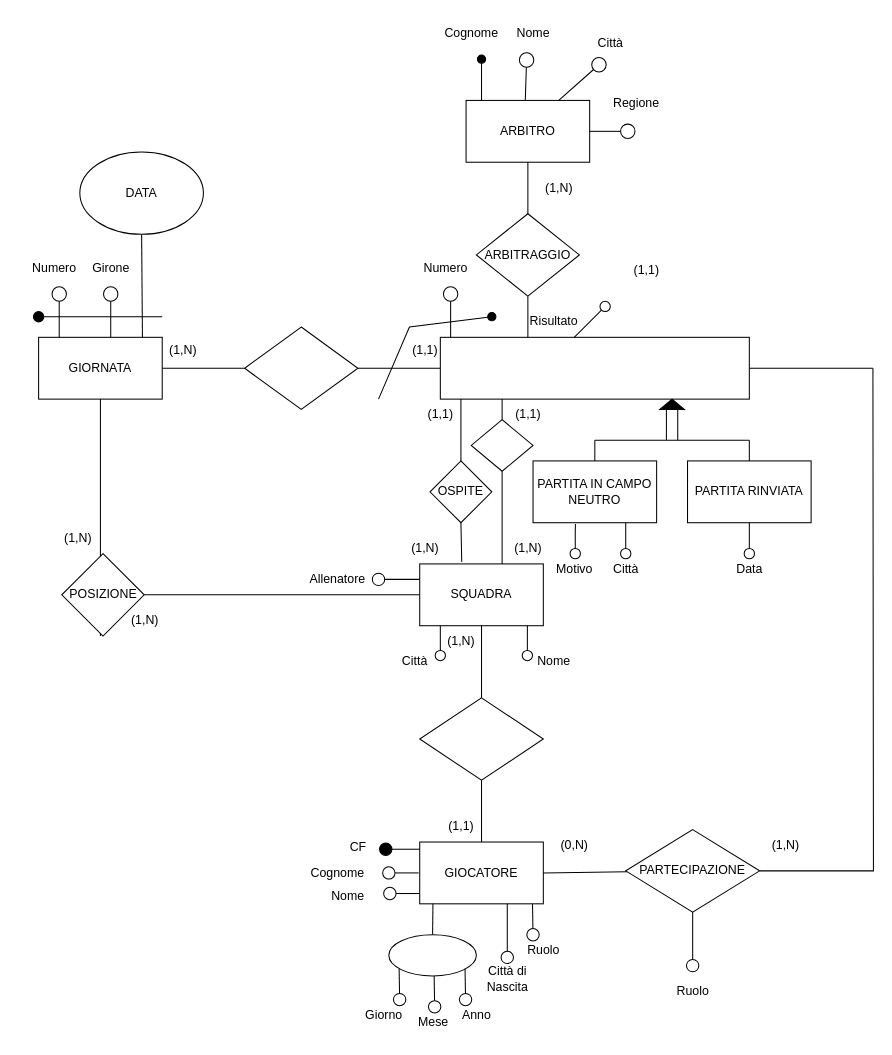
Image size: 892x1055. Some labels were removed from this diagram. Each missing label, with the centre of its shape:
APPARTENENZA: (481,738)
CASA: (501,445)
COLLOCAZIONE: (301,367)
Data di Nascita: (432,955)
PARTITA: (594,367)
